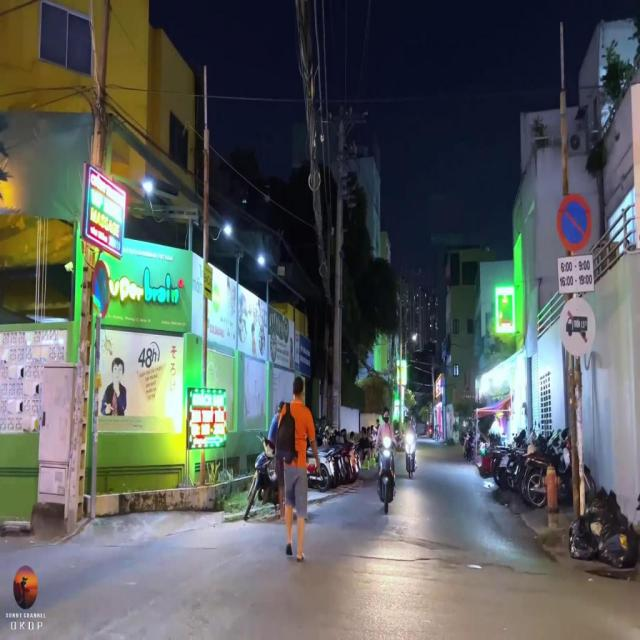cam_do_xe: (556, 192, 592, 252)
cam_o_to_tai: (558, 296, 595, 356)
khac: (558, 254, 594, 294)
